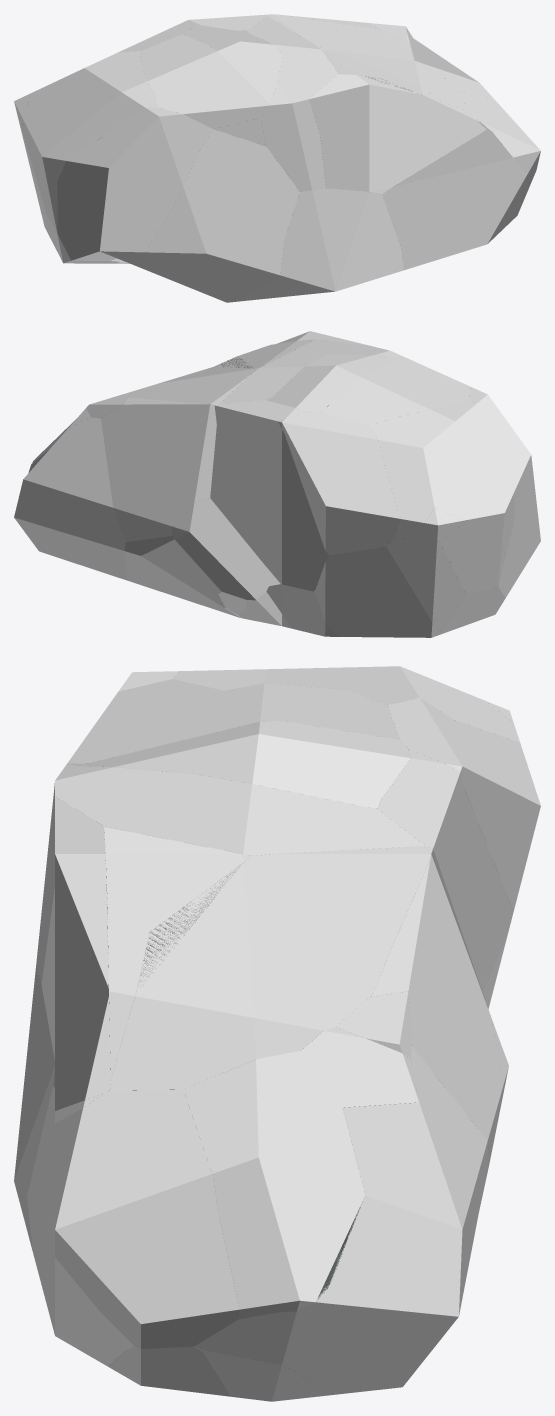
File: PiedraRota.fbx
3 views of the same model, one above another, from view 1: azimuth 30°, elevation 25°; view 2: azimuth 150°, elevation 25°; view 3: azimuth 270°, elevation 25° (orthographic). The views are drawn at different scales.
Visible parts, largest first — view 1: Cube.001_cell.013, Cube.001_cell.014, Cube.001_cell, Cube.001_cell.025, Cube.001_cell.020, Cube.001_cell.033, Cube.001_cell.028, Cube.001_cell.026, Cube.001_cell.029, Cube.001_cell.007, Cube.001_cell.024, Cube.001_cell.022 (+5 smaller); view 2: Cube.001_cell.033, Cube.001_cell.017, Cube.001_cell.011, Cube.001_cell.008, Cube.001_cell.010, Cube.001_cell.012, Cube.001_cell.026, Cube.001_cell.002, Cube.001_cell.014, Cube.001_cell.023, Cube.001_cell.031, Cube.001_cell.007 (+10 smaller); view 3: Cube.001_cell.029, Cube.001_cell.010, Cube.001_cell.022, Cube.001_cell.024, Cube.001_cell.028, Cube.001_cell.011, Cube.001_cell, Cube.001_cell.007, Cube.001_cell.026, Cube.001_cell.017, Cube.001_cell.001, Cube.001_cell.008 (+6 smaller).
Part boxes in pixels (left/top/right/bottom): Cube.001_cell.013: left=110, top=129, right=299, bottom=302; Cube.001_cell.014: left=57, top=107, right=212, bottom=263; Cube.001_cell: left=309, top=74, right=486, bottom=194; Cube.001_cell.025: left=382, top=114, right=528, bottom=269; Cube.001_cell.020: left=234, top=188, right=404, bottom=301; Cube.001_cell.033: left=20, top=50, right=156, bottom=233; Cube.001_cell.028: left=247, top=16, right=338, bottom=191; Cube.001_cell.026: left=140, top=34, right=271, bottom=128; Cube.001_cell.029: left=267, top=14, right=468, bottom=111; Cube.001_cell.007: left=183, top=25, right=282, bottom=105; Cube.001_cell.024: left=458, top=91, right=540, bottom=189; Cube.001_cell.022: left=406, top=29, right=492, bottom=97; Cube.001_cell.033: left=370, top=400, right=514, bottom=595; Cube.001_cell.017: left=210, top=400, right=329, bottom=591; Cube.001_cell.011: left=101, top=397, right=216, bottom=541; Cube.001_cell.008: left=278, top=411, right=400, bottom=554; Cube.001_cell.010: left=14, top=417, right=127, bottom=580; Cube.001_cell.012: left=313, top=546, right=458, bottom=637; Cube.001_cell.026: left=321, top=357, right=470, bottom=424; Cube.001_cell.002: left=172, top=498, right=280, bottom=600; Cube.001_cell.014: left=469, top=386, right=540, bottom=598; Cube.001_cell.023: left=124, top=536, right=225, bottom=608; Cube.001_cell.031: left=386, top=537, right=466, bottom=622; Cube.001_cell.007: left=266, top=354, right=405, bottom=412; Cube.001_cell.029: left=110, top=846, right=432, bottom=1090; Cube.001_cell.010: left=195, top=1046, right=488, bottom=1394; Cube.001_cell.022: left=183, top=1027, right=419, bottom=1319; Cube.001_cell.024: left=51, top=1089, right=239, bottom=1348; Cube.001_cell.028: left=36, top=764, right=424, bottom=983; Cube.001_cell.011: left=371, top=848, right=504, bottom=1164; Cube.001_cell: left=41, top=797, right=110, bottom=1110; Cube.001_cell.007: left=67, top=721, right=410, bottom=808; Cube.001_cell.026: left=67, top=679, right=399, bottom=763; Cube.001_cell.017: left=377, top=749, right=513, bottom=992; Cube.001_cell.001: left=104, top=826, right=251, bottom=1080; Cube.001_cell.008: left=387, top=698, right=540, bottom=910.
Size of the model in its own units: 2587 by 5112 by 2445.
